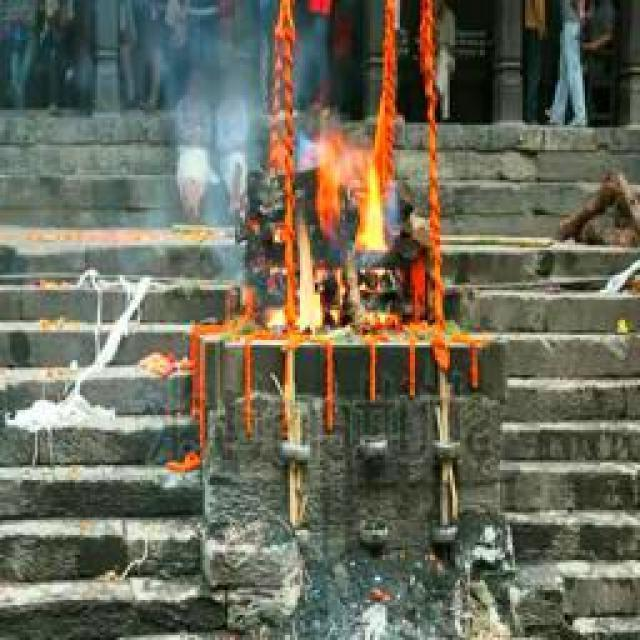Fire: (292, 127, 385, 334)
